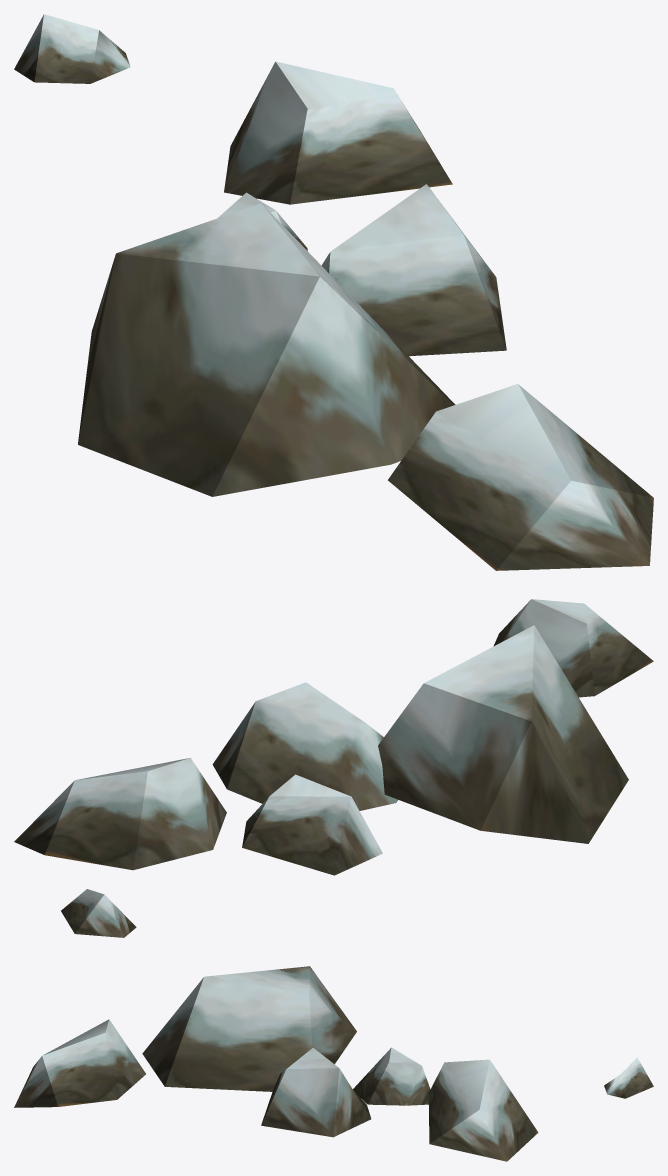
The model's file is environment_stone_yewaixuedi_001_a.FBX.
3 views of the same model, one above another, from view 1: azimuth 30°, elevation 25°; view 2: azimuth 150°, elevation 25°; view 3: azimuth 270°, elevation 25° (orthographic). The views are drawn at different scales.
Parts seen in each view (by area): view 1: environment_stone_yewaixuedi_001_a; view 2: environment_stone_yewaixuedi_001_a; view 3: environment_stone_yewaixuedi_001_a.
Part boxes in pixels (bbox=[...]): environment_stone_yewaixuedi_001_a: bbox=[14, 14, 653, 570]; environment_stone_yewaixuedi_001_a: bbox=[14, 599, 653, 937]; environment_stone_yewaixuedi_001_a: bbox=[14, 966, 653, 1161].
Bounding box in the file's own units: 139 × 45.94 × 272.
1 material, 1 textured.
